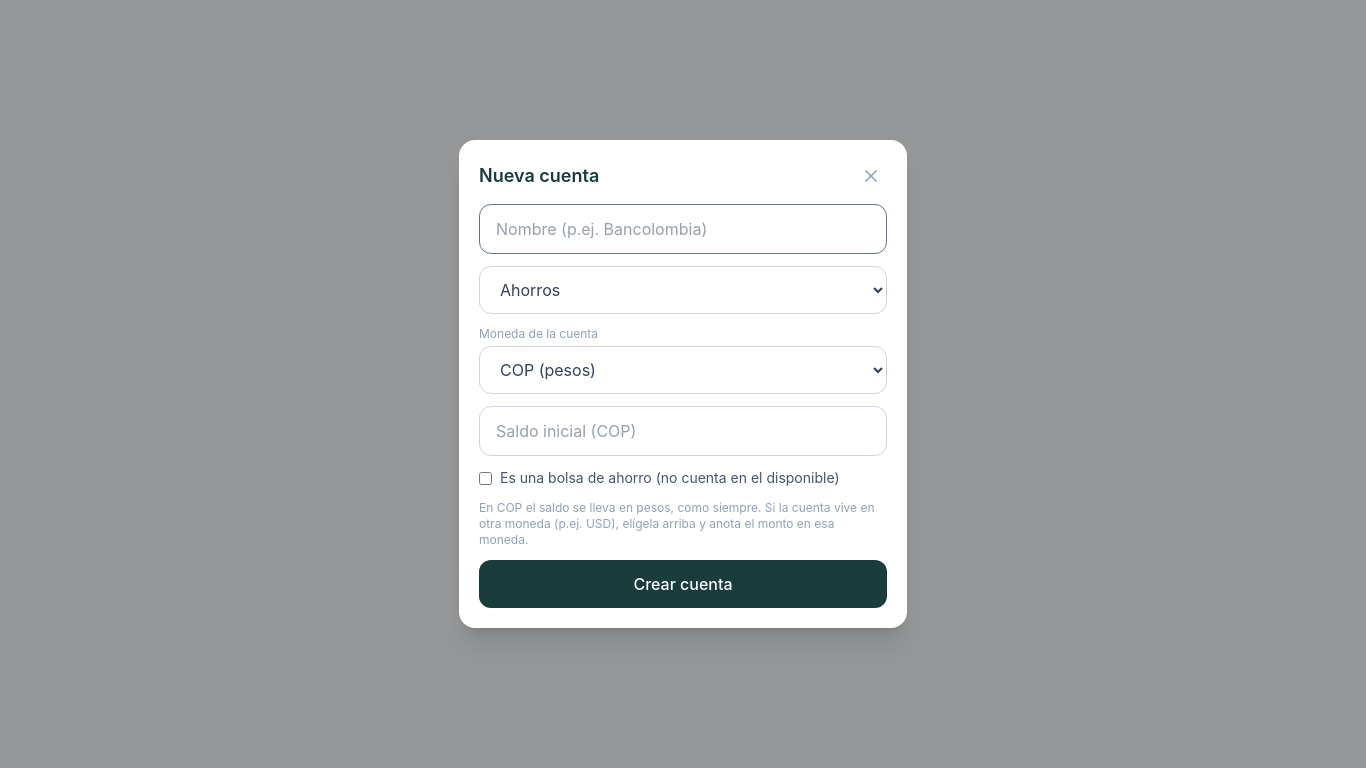
AccountForm — moneda extranjera › al elegir divisa, el saldo COP se deshabilita y se autollena con la conversión
The image size is (1366, 768).
Select "USD" in the dropdown labelled "Moneda de la cuenta" at (683, 370), box top-left (479, 346), bottom-right (887, 394)
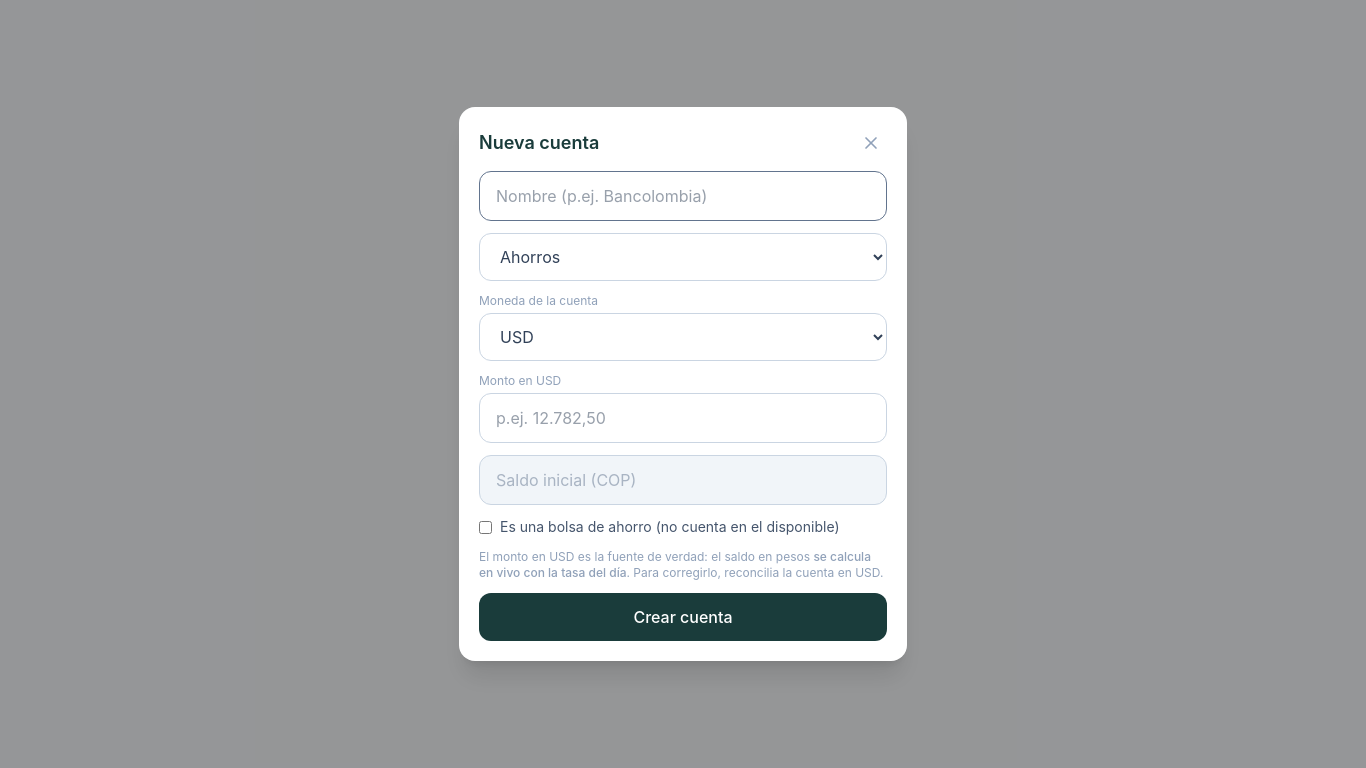
Type "100" into the field with placeholder "p.ej. 12.782,50".
click(683, 418); type("100")  # box top-left (479, 393), bottom-right (887, 443)
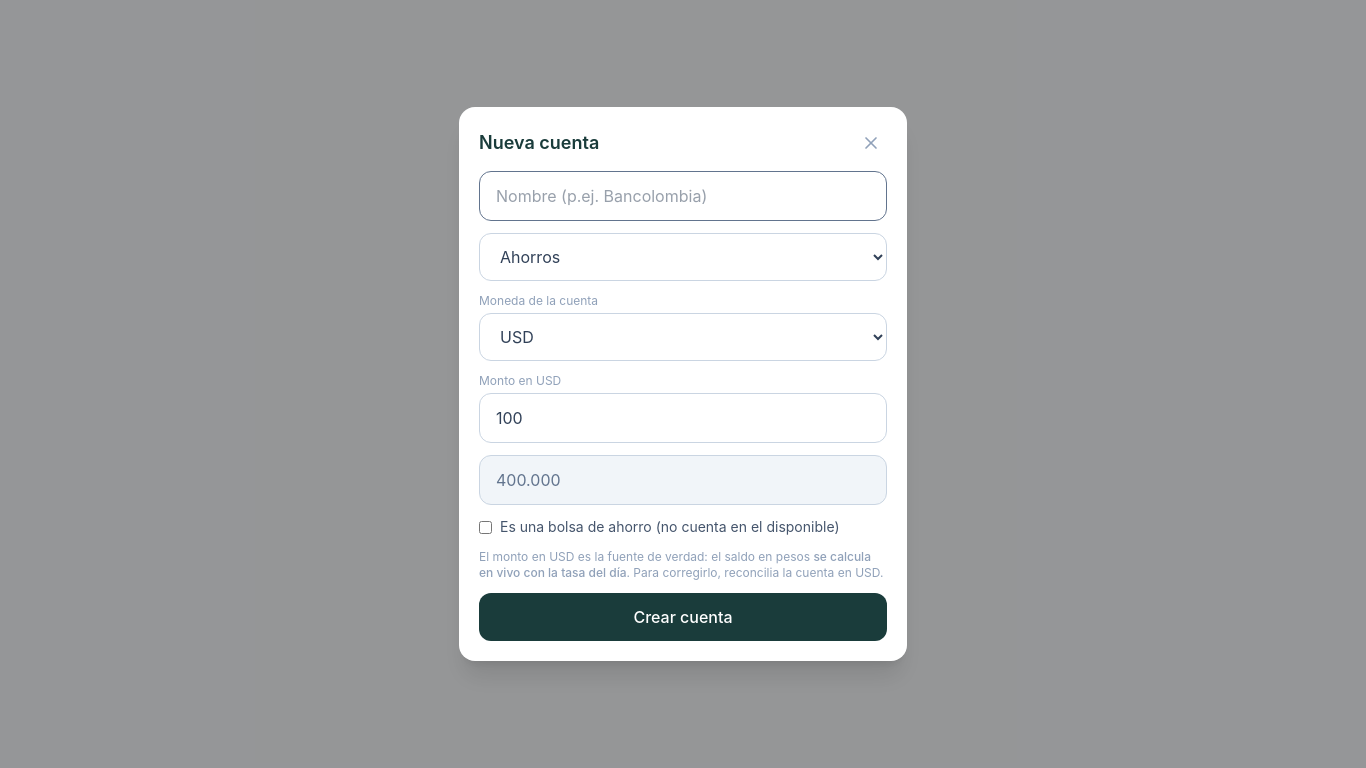
Now the field with placeholder "Saldo inicial (COP)" is disabled, box top-left (479, 455), bottom-right (887, 505)
Now the field with placeholder "Saldo inicial (COP)" holds "400.000", box top-left (479, 455), bottom-right (887, 505)
